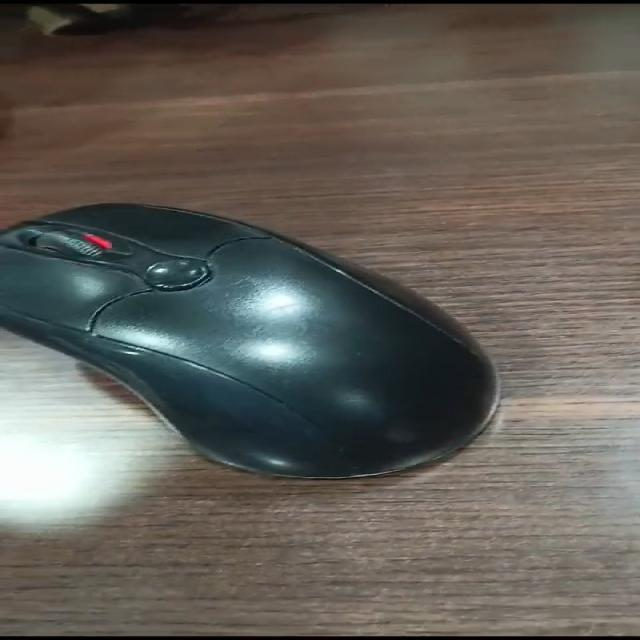mouse: (0, 171, 569, 508), (14, 129, 19, 150)
